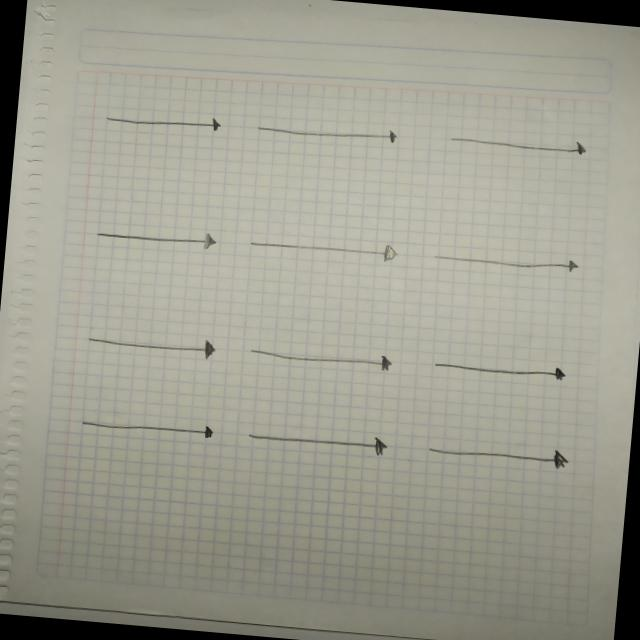arrow_line_up: (54, 350, 148, 492), (49, 497, 128, 614), (542, 89, 612, 212), (451, 404, 522, 523), (502, 249, 568, 367), (290, 230, 360, 340), (75, 210, 147, 316), (282, 378, 346, 492), (100, 43, 151, 168), (331, 63, 380, 184), (277, 508, 329, 618), (448, 538, 496, 630)
